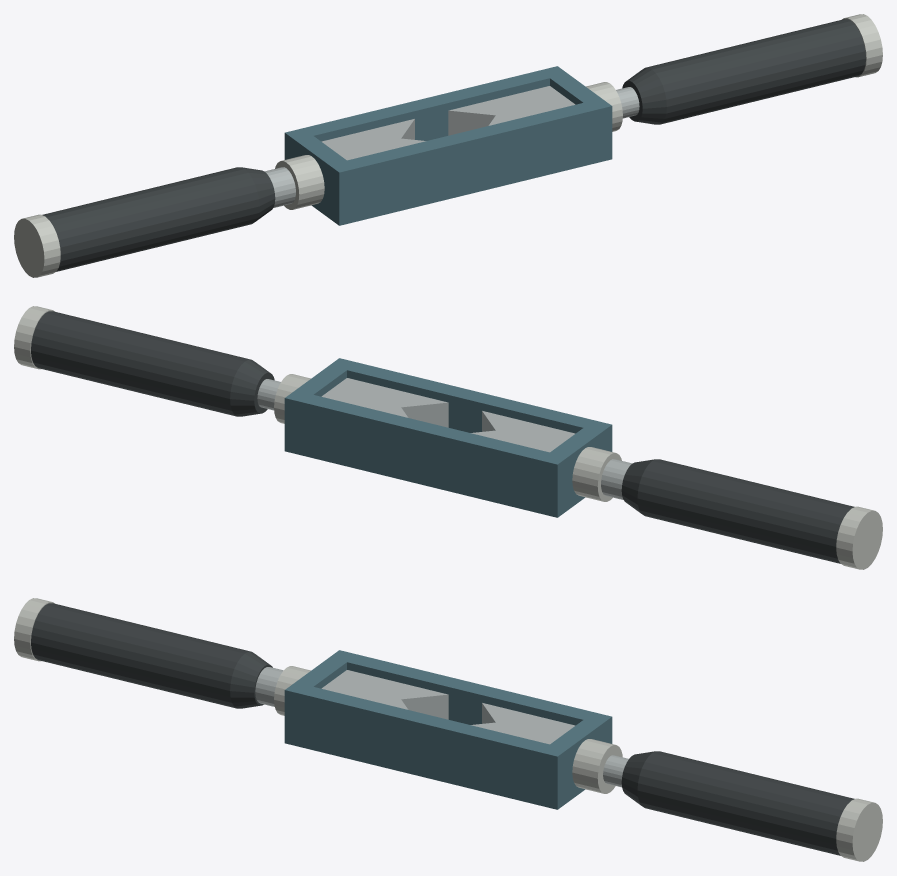
3 renders of one model, top to bottom at view 1: azimuth 30°, elevation 25°; view 2: azimuth 150°, elevation 25°; view 3: azimuth 330°, elevation 25°, orthographic.
Visible parts, largest first — view 1: WholeContinuousWindowHead, WholeShapedHandGrip1, WholeShapedHandGrip0, WholeOpposedVNotchJaw, WholeHandleEndCap0, WholeFixedVNotchJaw, WholeHandleRootCollar0, WholeHandleEndCap1, WholeFixedHandleCore, WholeHandleRootCollar1, WholeAdjustingHandleShaft; view 2: WholeContinuousWindowHead, WholeShapedHandGrip1, WholeShapedHandGrip0, WholeOpposedVNotchJaw, WholeHandleEndCap0, WholeFixedVNotchJaw, WholeHandleRootCollar0, WholeHandleEndCap1, WholeFixedHandleCore, WholeHandleRootCollar1, WholeAdjustingHandleShaft; view 3: WholeContinuousWindowHead, WholeShapedHandGrip0, WholeShapedHandGrip1, WholeFixedVNotchJaw, WholeHandleEndCap1, WholeOpposedVNotchJaw, WholeHandleRootCollar1, WholeHandleEndCap0, WholeFixedHandleCore, WholeHandleRootCollar0, WholeAdjustingHandleShaft.
Boxes of the visible parts, left/top/right/bottom form: WholeContinuousWindowHead: left=284, top=66, right=612, bottom=225; WholeShapedHandGrip1: left=622, top=19, right=865, bottom=124; WholeShapedHandGrip0: left=42, top=167, right=275, bottom=271; WholeOpposedVNotchJaw: left=448, top=86, right=575, bottom=135; WholeHandleEndCap0: left=14, top=214, right=60, bottom=277; WholeFixedVNotchJaw: left=321, top=119, right=425, bottom=160; WholeHandleRootCollar0: left=275, top=155, right=324, bottom=209; WholeHandleEndCap1: left=842, top=14, right=882, bottom=77; WholeFixedHandleCore: left=264, top=167, right=295, bottom=207; WholeHandleRootCollar1: left=586, top=82, right=622, bottom=131; WholeAdjustingHandleShaft: left=616, top=87, right=639, bottom=118; WholeContinuousWindowHead: left=284, top=358, right=612, bottom=517; WholeShapedHandGrip1: left=31, top=311, right=274, bottom=416; WholeShapedHandGrip0: left=621, top=459, right=854, bottom=563; WholeOpposedVNotchJaw: left=321, top=378, right=448, bottom=427; WholeHandleEndCap0: left=836, top=506, right=882, bottom=569; WholeFixedVNotchJaw: left=471, top=411, right=575, bottom=452; WholeHandleRootCollar0: left=572, top=447, right=621, bottom=501; WholeHandleEndCap1: left=14, top=306, right=54, bottom=369; WholeFixedHandleCore: left=601, top=459, right=632, bottom=499; WholeHandleRootCollar1: left=274, top=374, right=310, bottom=423; WholeAdjustingHandleShaft: left=257, top=379, right=280, bottom=410; WholeContinuousWindowHead: left=284, top=650, right=612, bottom=809; WholeShapedHandGrip0: left=31, top=603, right=272, bottom=708; WholeShapedHandGrip1: left=621, top=751, right=854, bottom=855; WholeFixedVNotchJaw: left=321, top=670, right=448, bottom=719; WholeHandleEndCap1: left=836, top=798, right=882, bottom=861; WholeOpposedVNotchJaw: left=471, top=703, right=575, bottom=744; WholeHandleRootCollar1: left=572, top=739, right=622, bottom=793; WholeHandleEndCap0: left=14, top=598, right=54, bottom=661; WholeFixedHandleCore: left=255, top=667, right=283, bottom=706; WholeHandleRootCollar0: left=274, top=666, right=310, bottom=715; WholeAdjustingHandleShaft: left=603, top=755, right=628, bottom=787.
Size of the model in its own units: 0.461 by 0.029 by 0.052.
